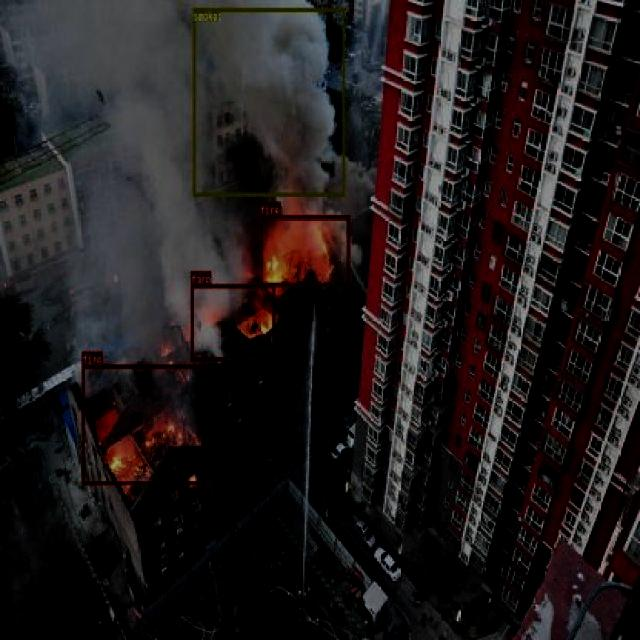fire: (82, 364, 205, 484), (258, 214, 349, 286), (190, 283, 275, 360)
smoke: (193, 8, 344, 196)
